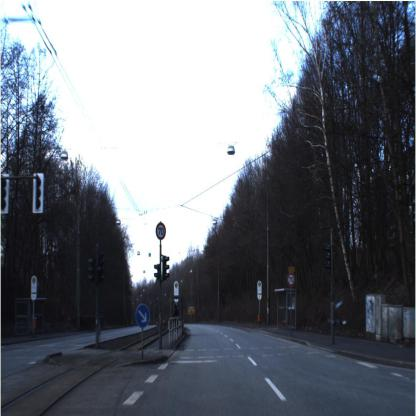mandatory: (132, 300, 152, 332)
prohibitory: (282, 269, 298, 292), (154, 220, 167, 244)
